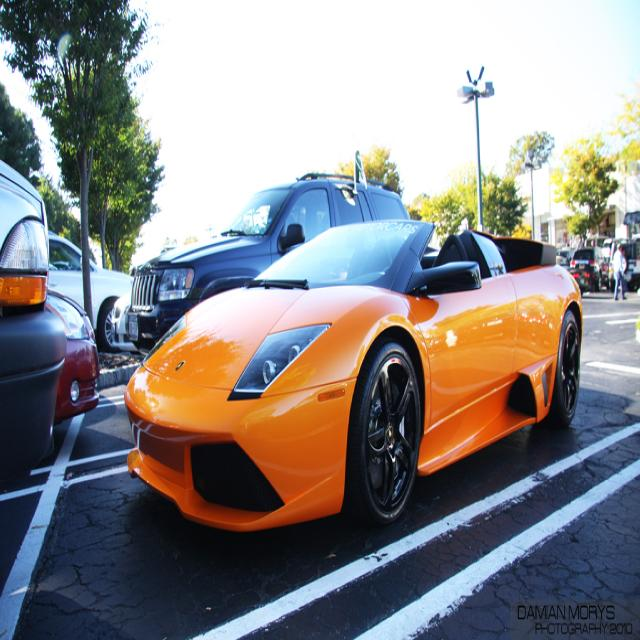car: (126, 218, 585, 525)
